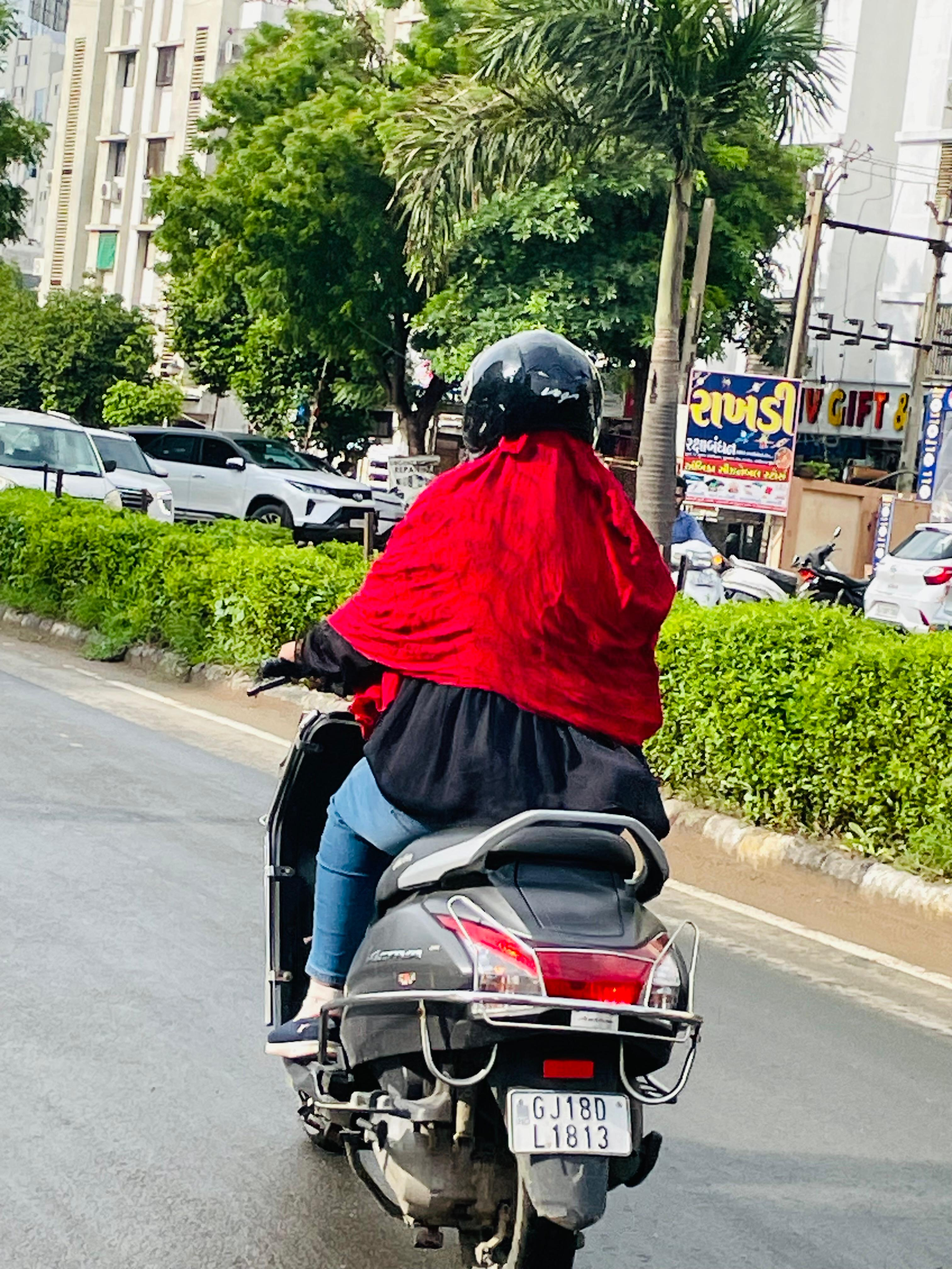BikeWithRider: (242, 319, 708, 1269)
Helmet: (451, 315, 617, 465)
